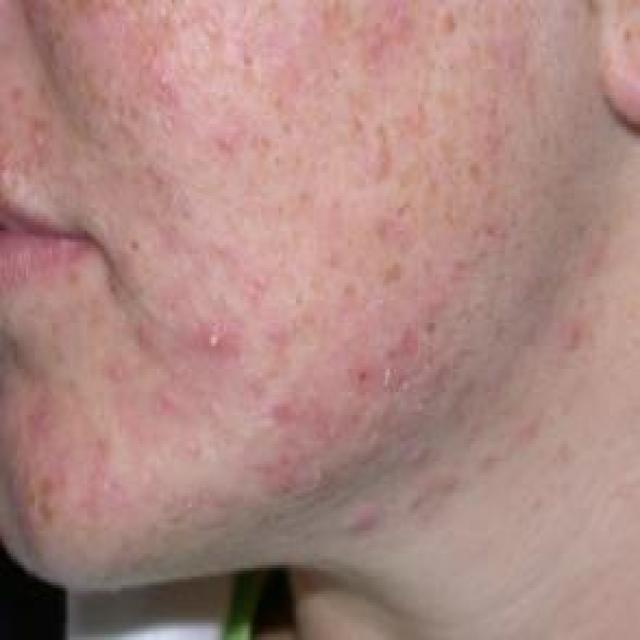Acne: (346, 351, 406, 400), (192, 312, 244, 365)
